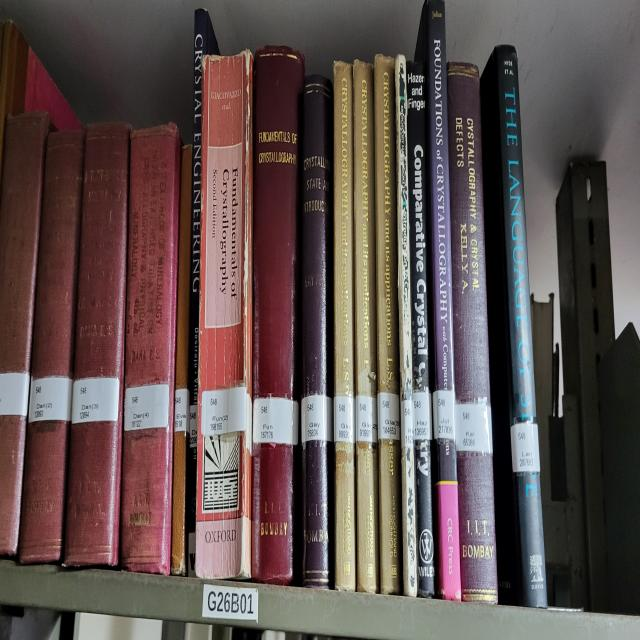Book: (480, 46, 548, 609), (64, 124, 130, 565), (251, 46, 305, 584), (196, 54, 251, 576), (19, 130, 85, 563), (448, 62, 498, 603), (416, 0, 461, 601), (121, 124, 180, 574), (0, 111, 50, 555), (186, 8, 220, 571), (301, 76, 334, 587), (406, 62, 435, 595), (374, 57, 402, 593), (352, 60, 379, 593), (395, 54, 418, 598), (334, 62, 356, 590), (171, 146, 192, 576)
Label: (195, 51, 252, 579), (252, 398, 299, 446), (71, 379, 120, 425), (201, 387, 246, 436), (124, 384, 169, 430), (29, 376, 72, 422), (455, 403, 492, 455), (301, 395, 334, 444), (510, 422, 540, 473), (0, 373, 30, 417), (432, 390, 455, 441), (355, 395, 378, 444), (378, 392, 400, 441), (334, 395, 355, 444), (412, 392, 431, 441), (175, 387, 189, 433), (401, 398, 414, 446), (189, 403, 198, 449)
